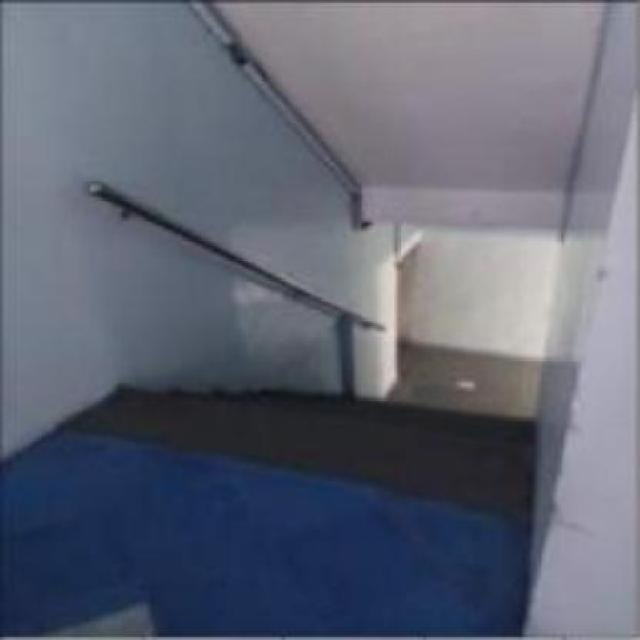stair: (115, 338, 540, 512)
